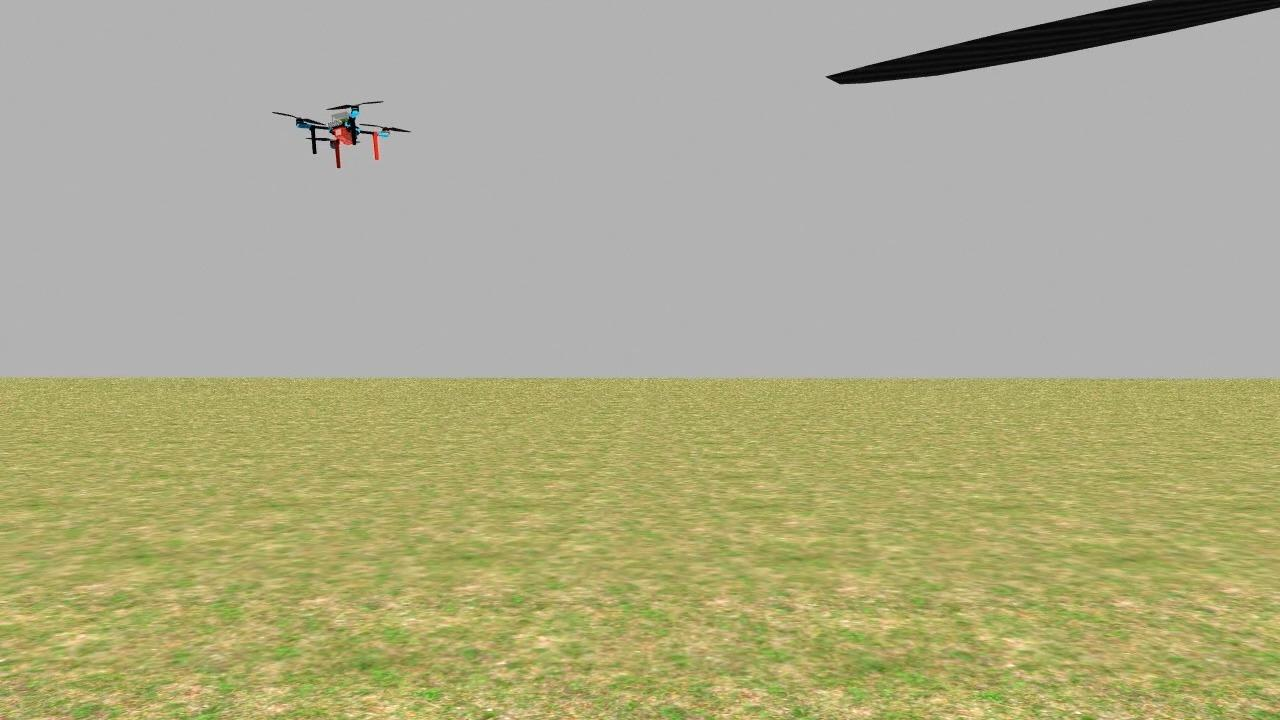UAV: (281, 82, 410, 180)
